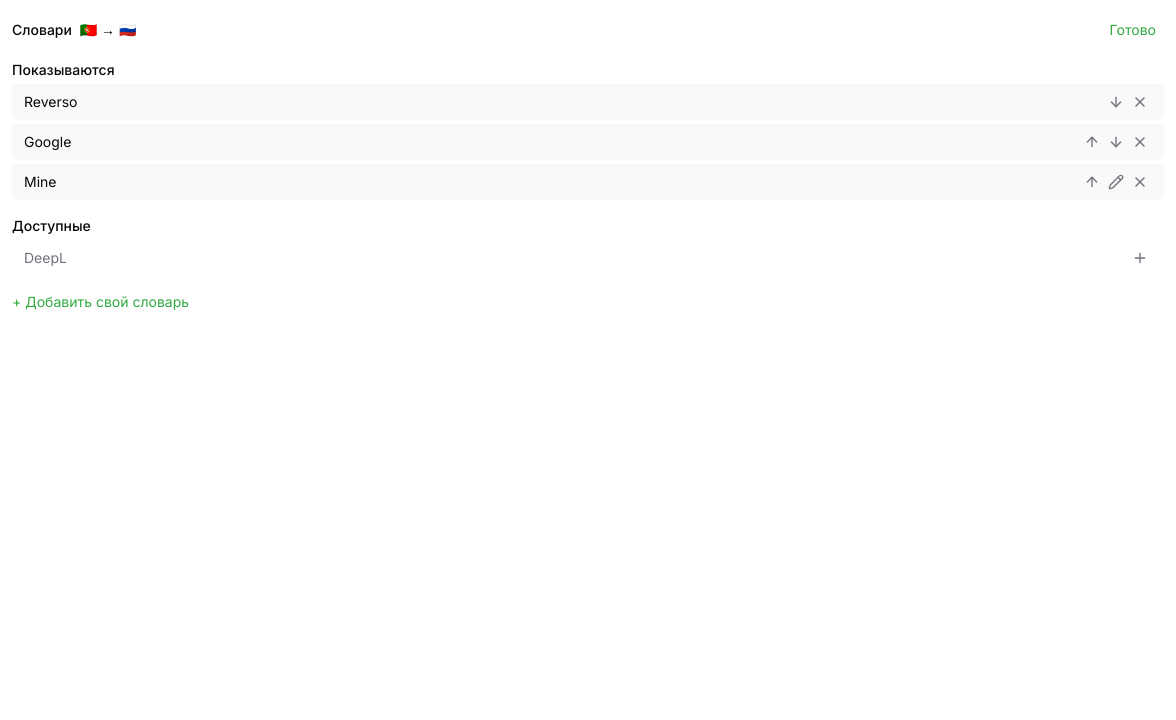
Test: DictionarySettingsPanel › server validation code shows a readable message
The image size is (1176, 720).
Click the button "+ Добавить свой словарь": (101, 302) [12,292,189,312]
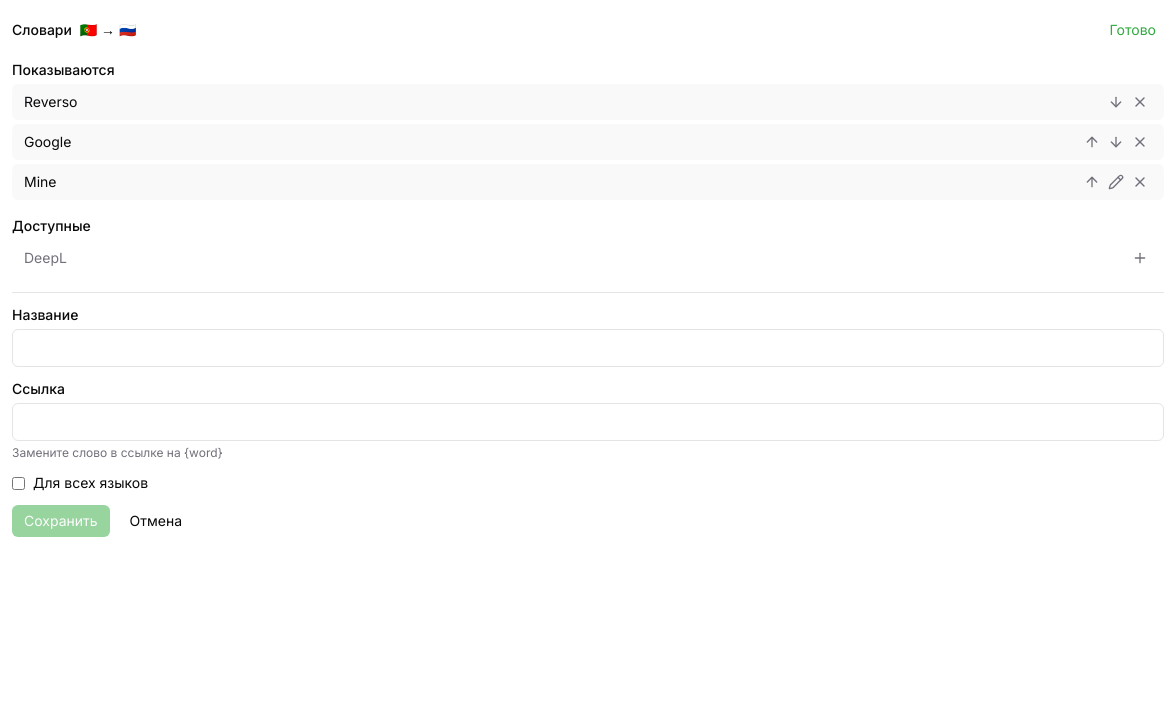
In the field labelled "Название": (588, 348) [12,329,1164,367], type "Bad"
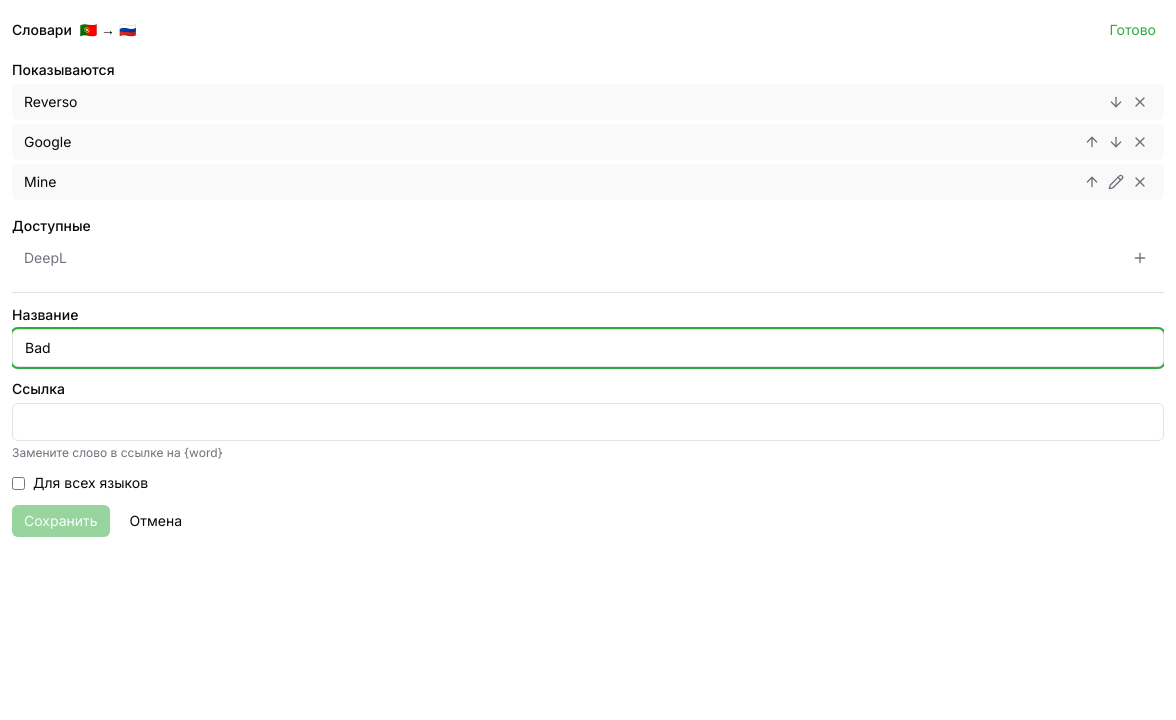
Click the field labelled "Ссылка": (588, 422) [12,403,1164,441]
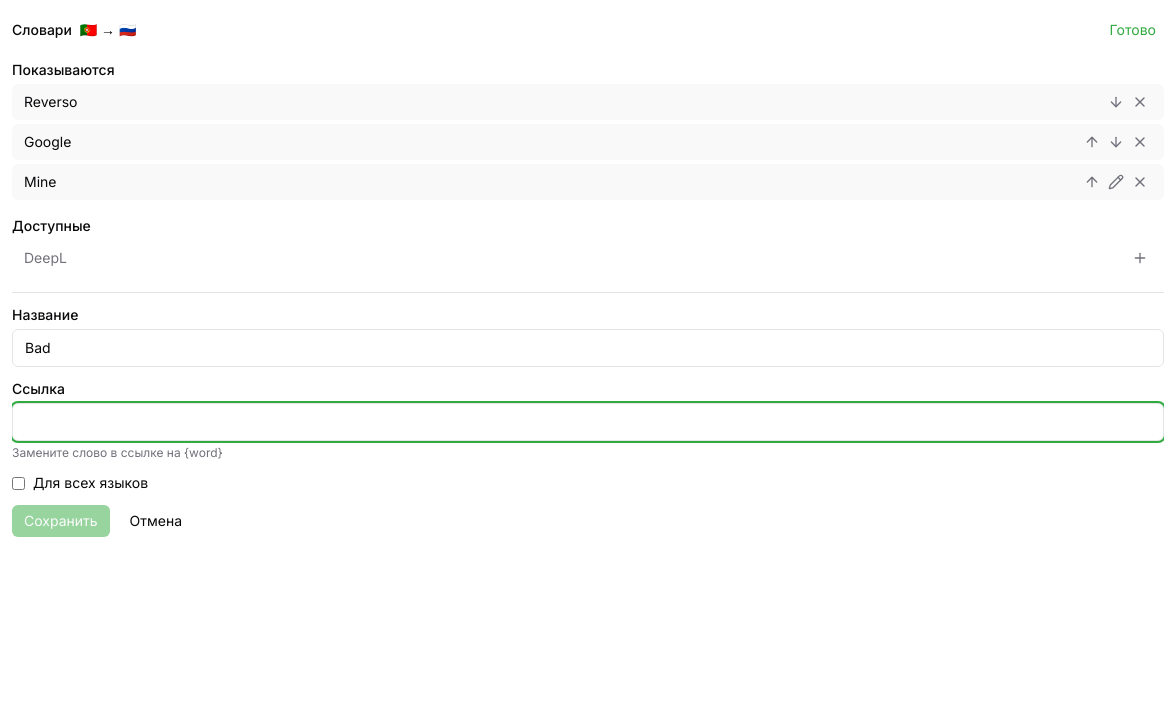
Type keys "https://{word}.example/"
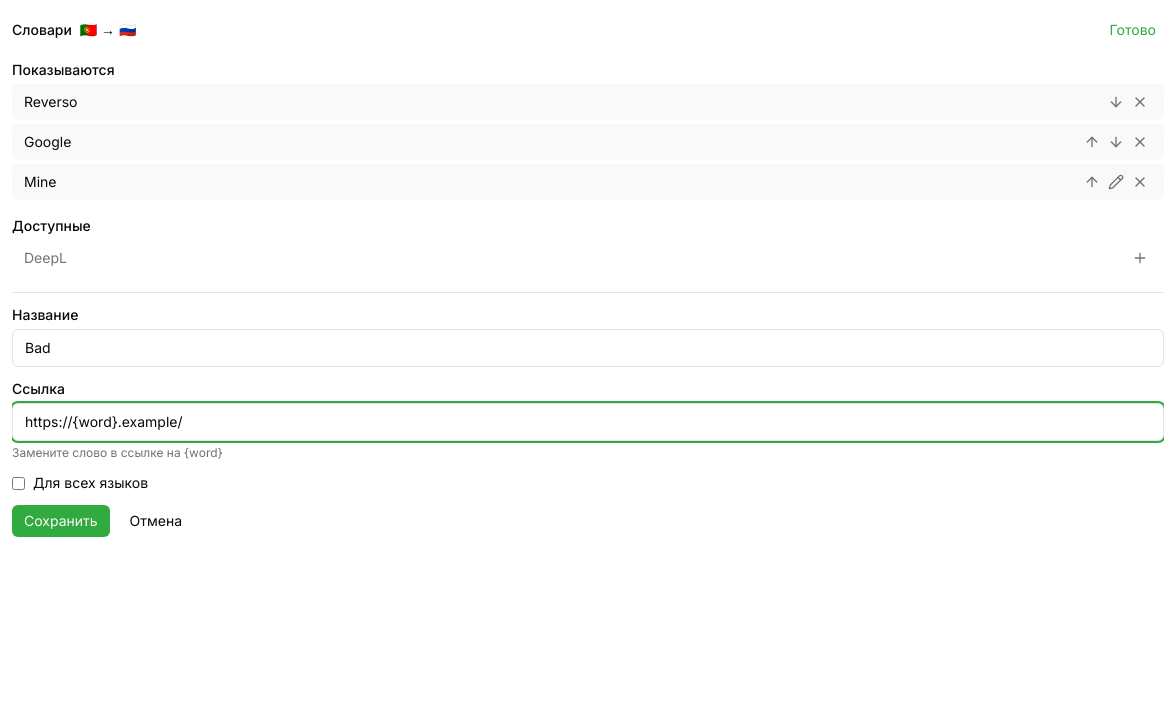
Click the button "Сохранить": (61, 521) [12,505,110,537]
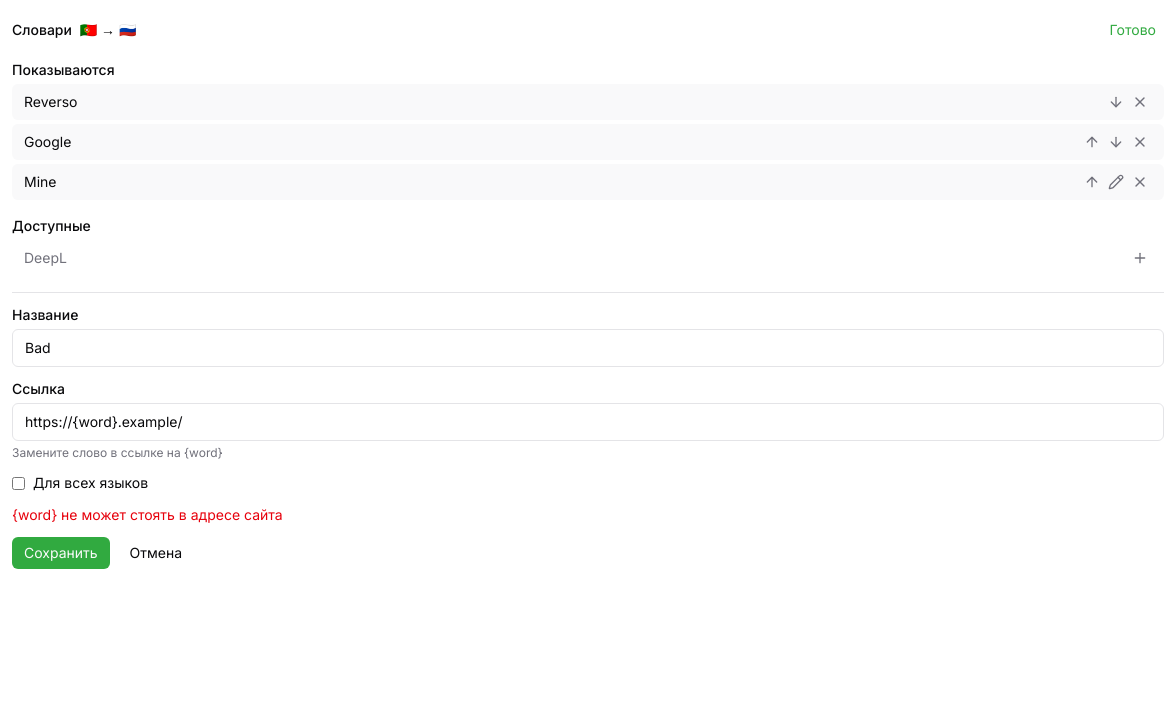
Expected: the message reads "{word} не может стоять в адресе сайта", [12,506,283,523]
